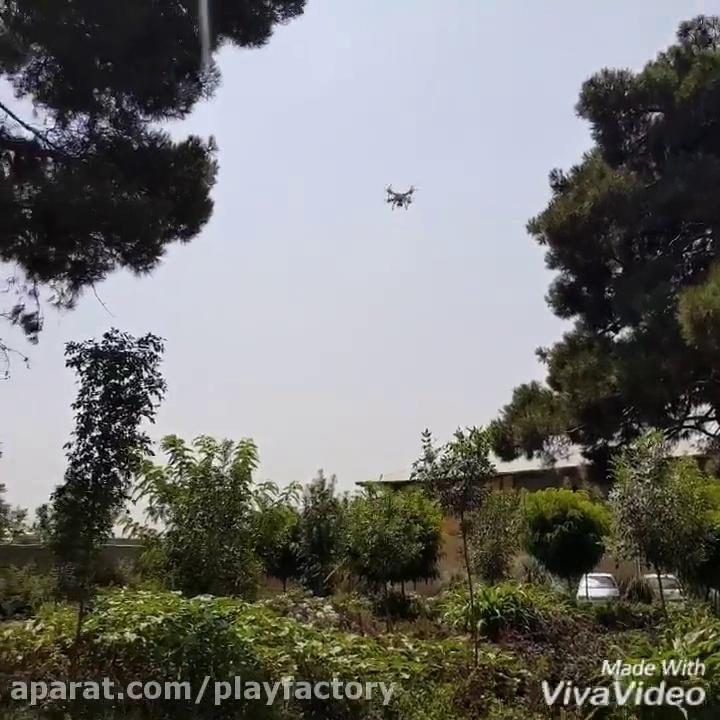drone: (376, 175, 430, 214)
